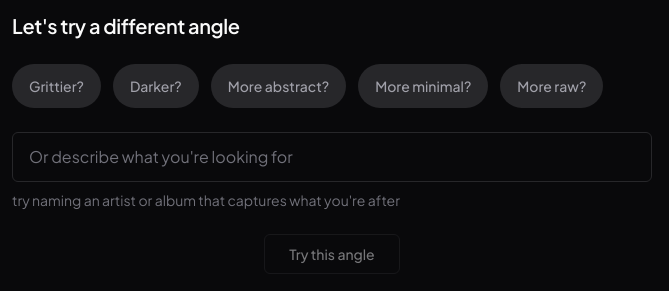
Test: RecoveryFlow › enables submit button when a pill is selected
Click the button "Grittier?". click: [56, 86]
box: [12, 64, 101, 108]
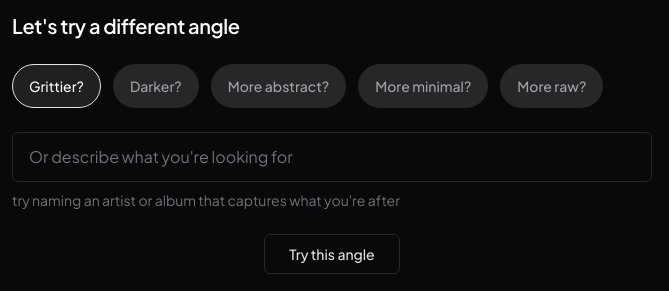
Now the button "Try this angle" is enabled, box [264, 234, 400, 274]
